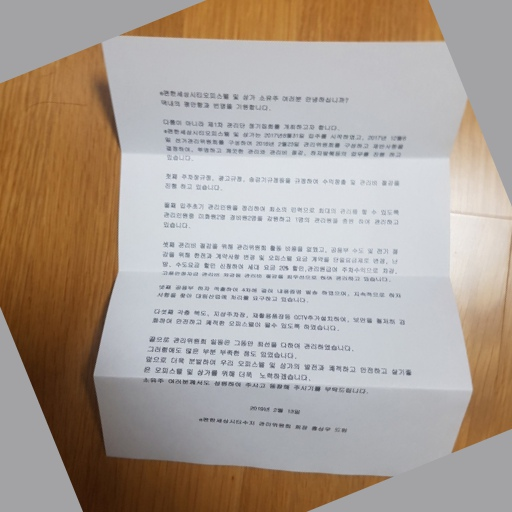Paper_3: (74, 22, 485, 500)
